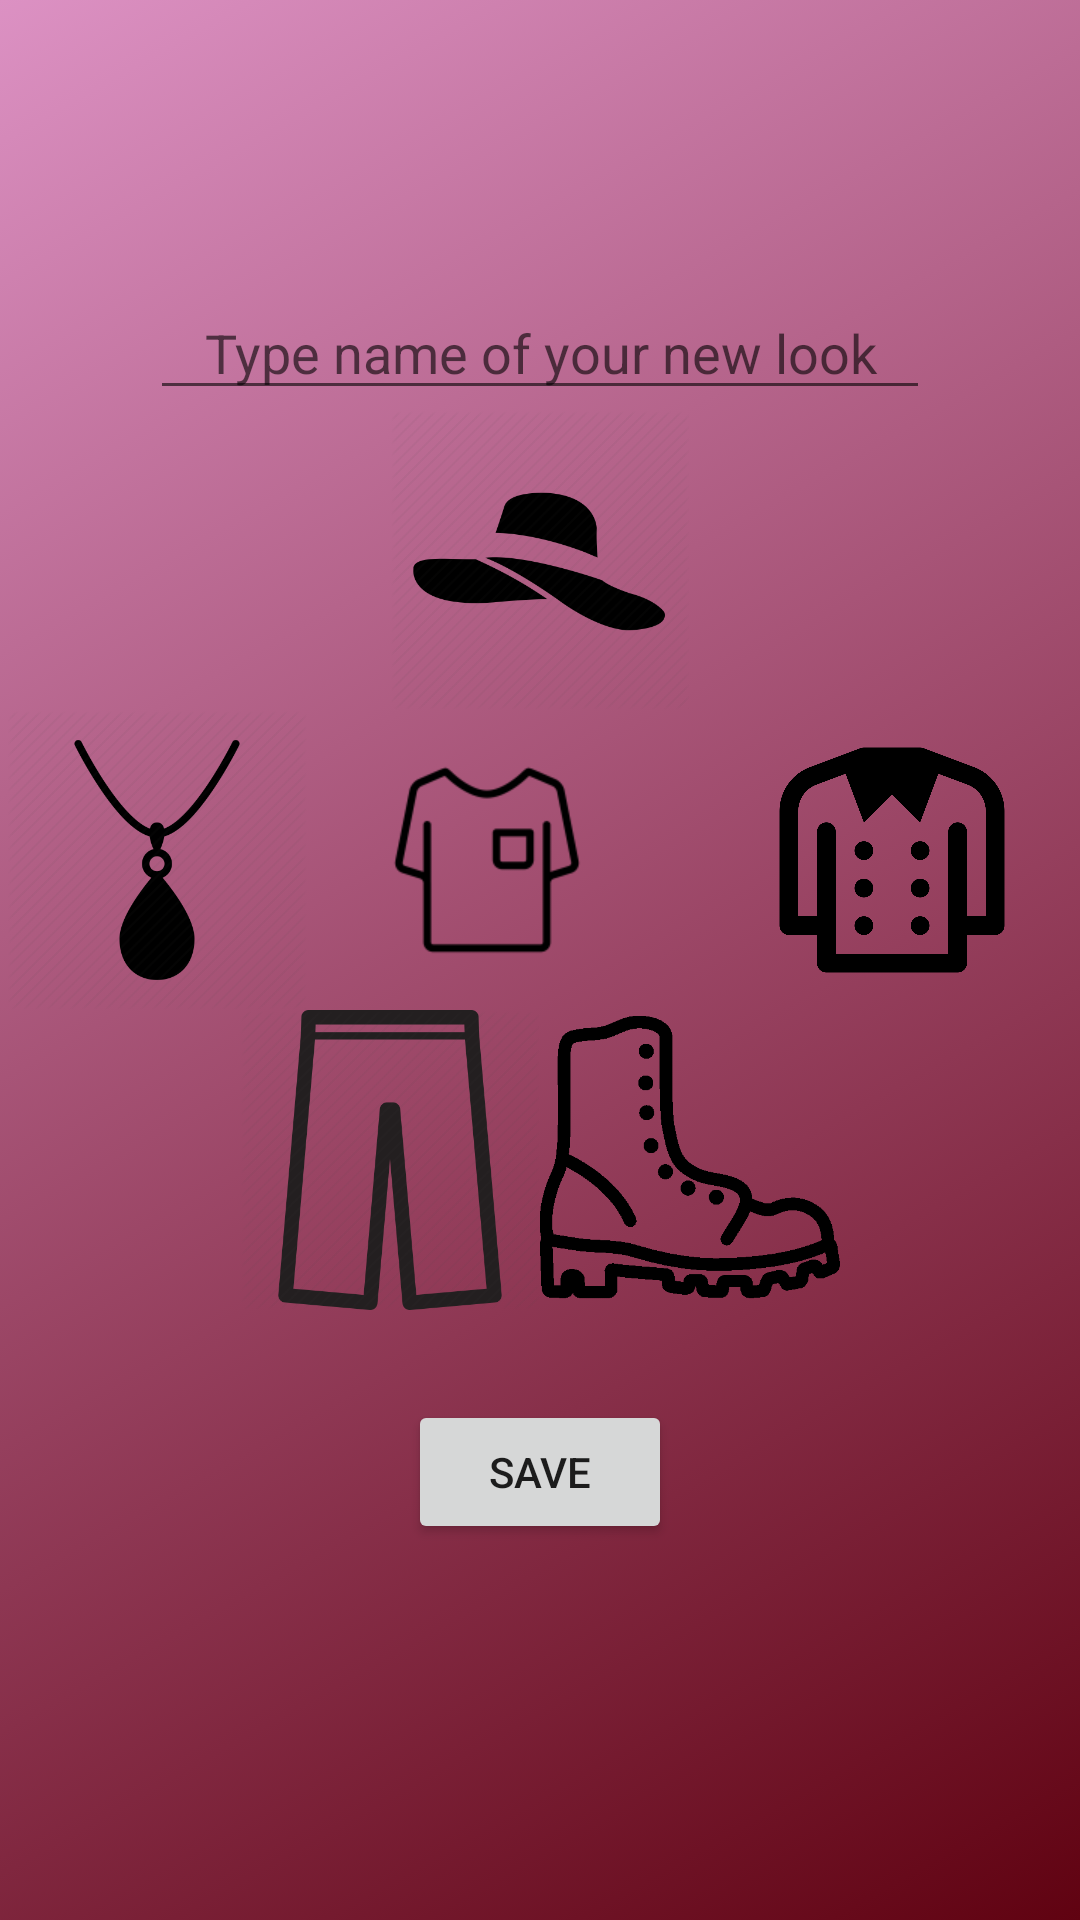

Point at icon controls on the screen. Image size 1080px x 1920px, points as point (x, y).
accessories: point (157, 861)
boots: point (690, 1154)
coat: point (874, 841)
hat: point (540, 560)
pants: point (371, 1160)
shirt: point (487, 860)
